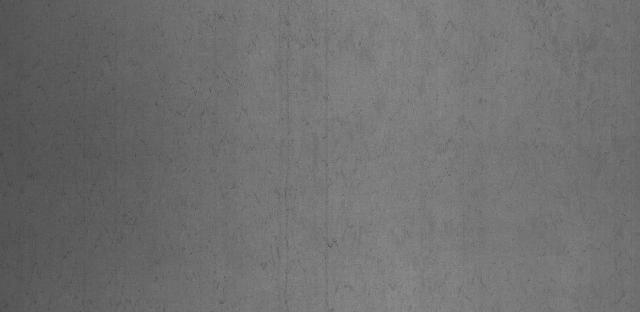silk_spot: (428, 16, 632, 298), (212, 103, 400, 288), (205, 4, 400, 95)
